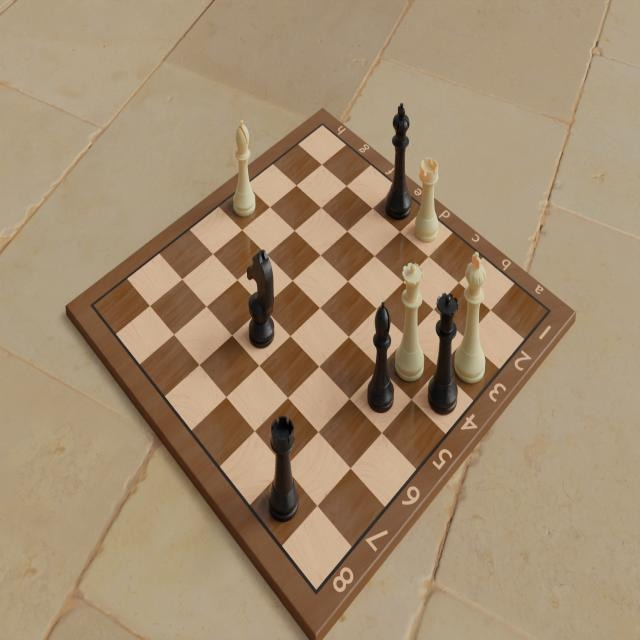black-bishop: (366, 298, 397, 417)
black-king: (385, 100, 415, 221)
black-knight: (247, 247, 277, 352)
black-queen: (427, 289, 460, 421)
black-rook: (264, 410, 299, 526)
white-bishop: (230, 116, 258, 220)
white-king: (453, 248, 489, 386)
white-queen: (394, 259, 426, 382)
white-rook: (415, 155, 440, 244)
